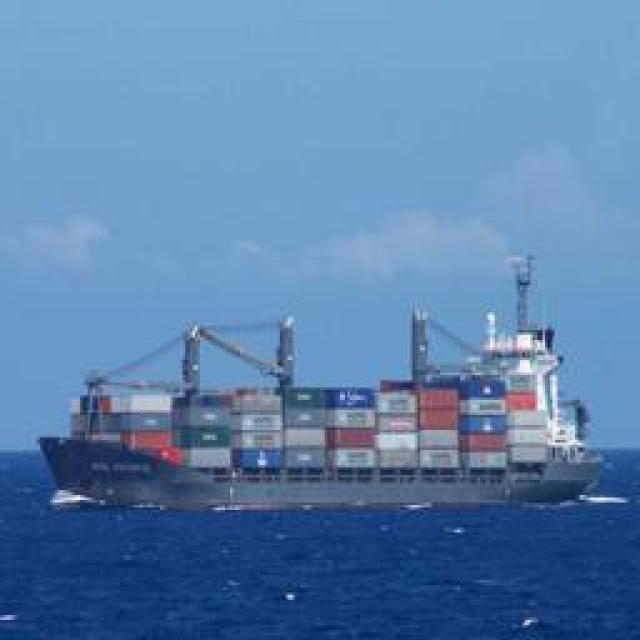Ship: (45, 261, 610, 514)
